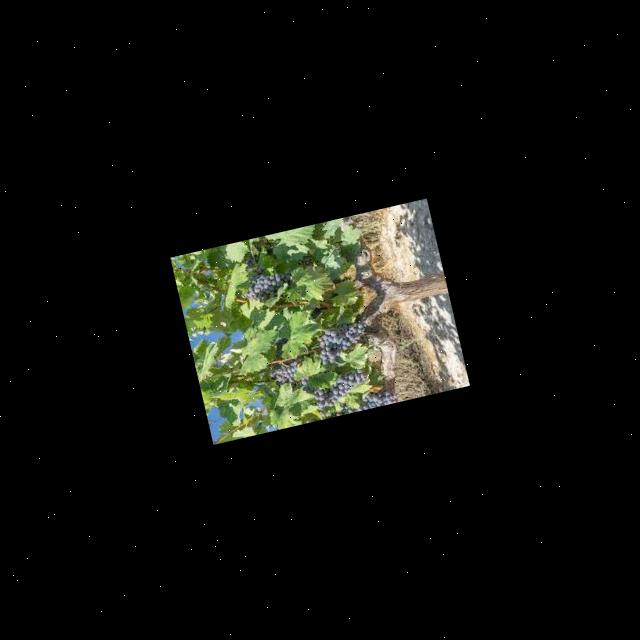grape: (314, 316, 372, 366), (309, 366, 372, 409), (267, 358, 302, 387)
